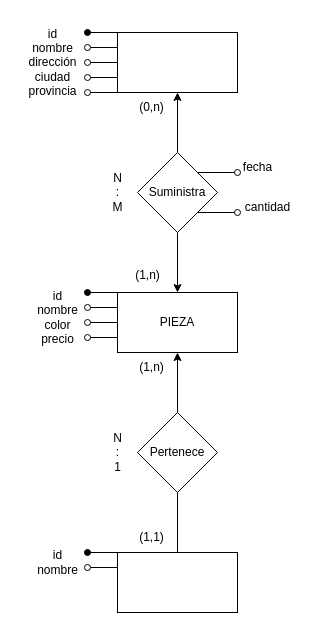
Some shapes in this 319 by 630 pixel diagram are drawn without their labels. The box of each missing label's shape, as (x1, y1, x2, y2) in pixels:
CATEGORÍA: (116, 552, 238, 612)
PROVEEDOR: (116, 32, 238, 92)
